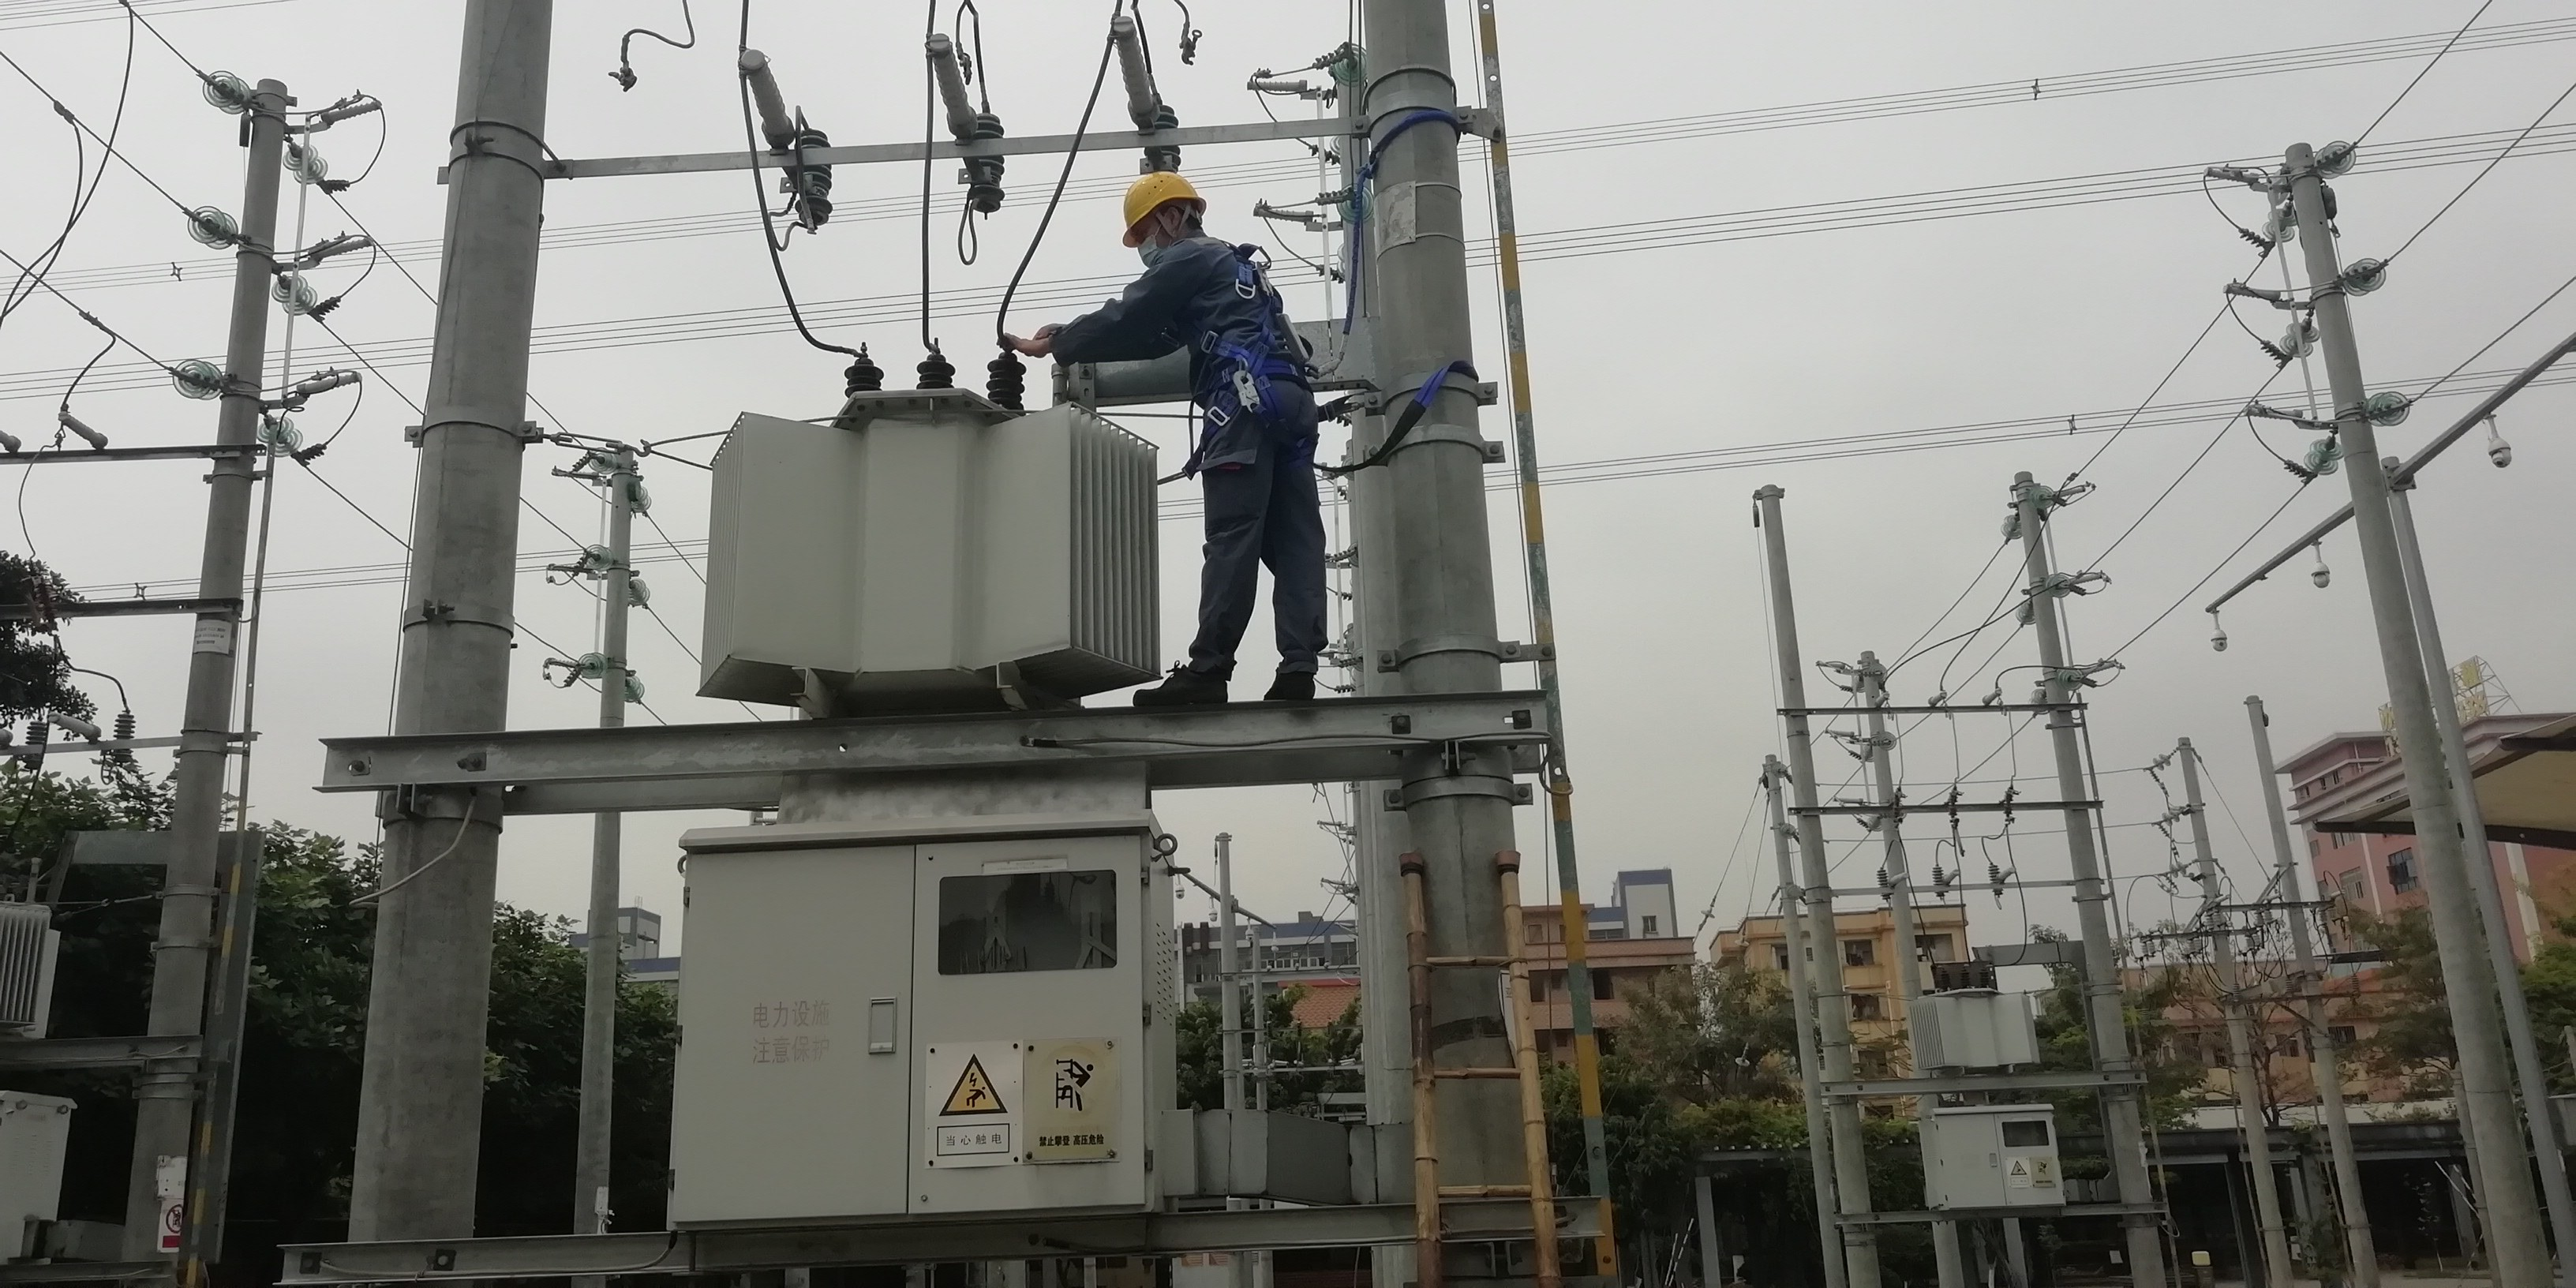downsuit: (1193, 401, 1334, 669)
upsuit: (1056, 240, 1326, 384)
